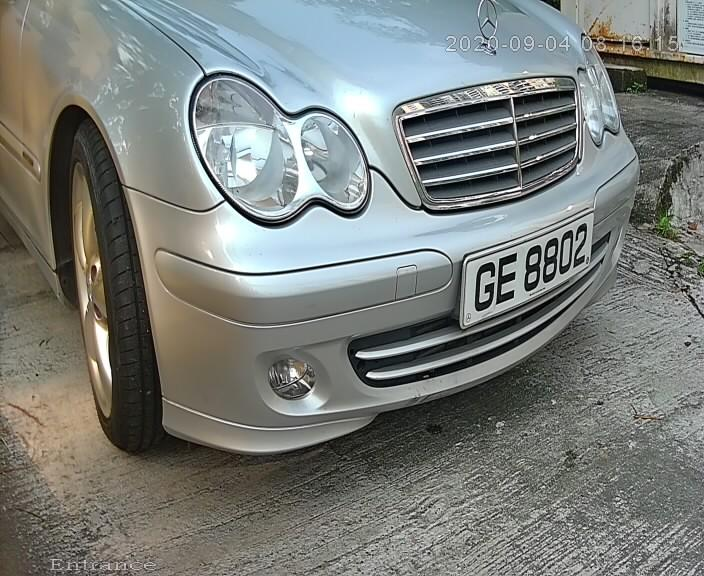License Plate: (450, 199, 602, 340)
